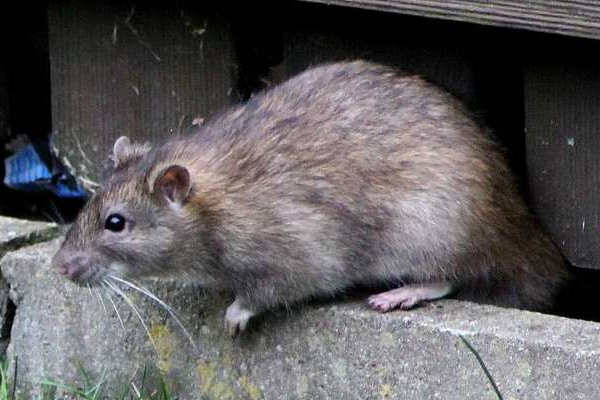rat: (45, 51, 530, 345)
